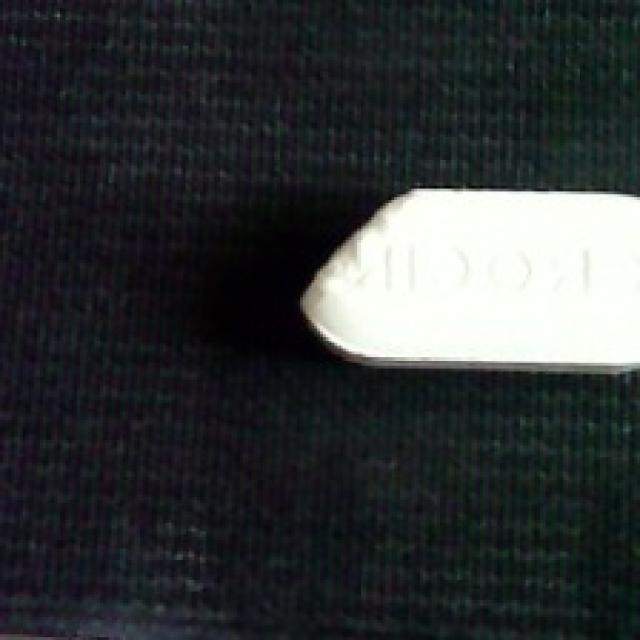defected: (291, 180, 640, 377)
